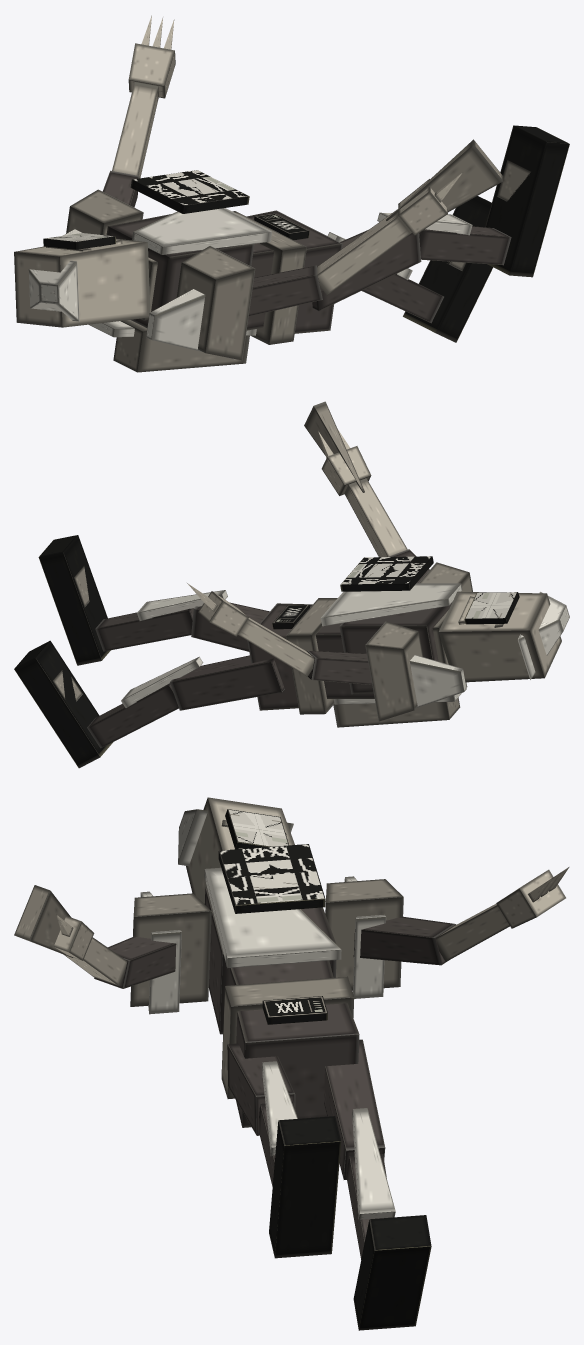
Rendered from velaroth_death.obj.
The picture shows the model from 3 angles, top to bottom: view 1: azimuth 30°, elevation 25°; view 2: azimuth 150°, elevation 25°; view 3: azimuth 270°, elevation 25°; orthographic projection. The views are drawn at different scales.
Visible parts, largest first — view 1: velaroth_death; view 2: velaroth_death; view 3: velaroth_death.
Part boxes in pixels (x1,y1,x2,y2): velaroth_death: (14, 15, 569, 372); velaroth_death: (14, 401, 569, 768); velaroth_death: (14, 797, 569, 1330).
Size of the model in its own units: 1.04 by 0.5876 by 0.7871.
1 material, 1 textured.
